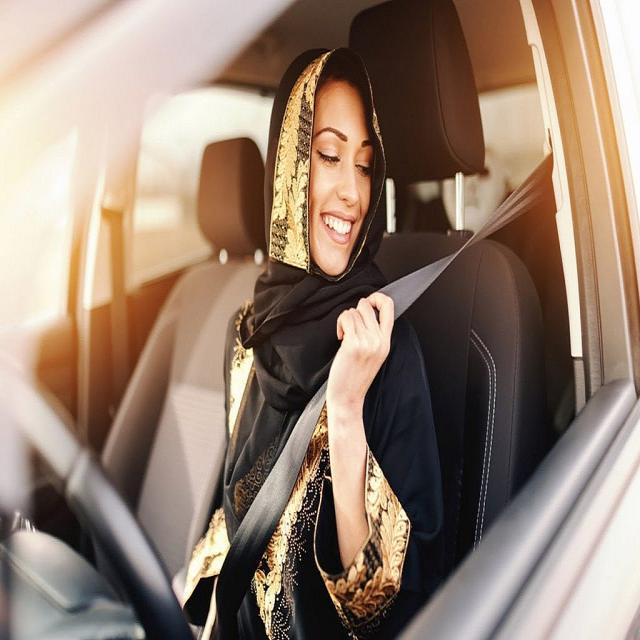seatbelt: (212, 146, 568, 631)
